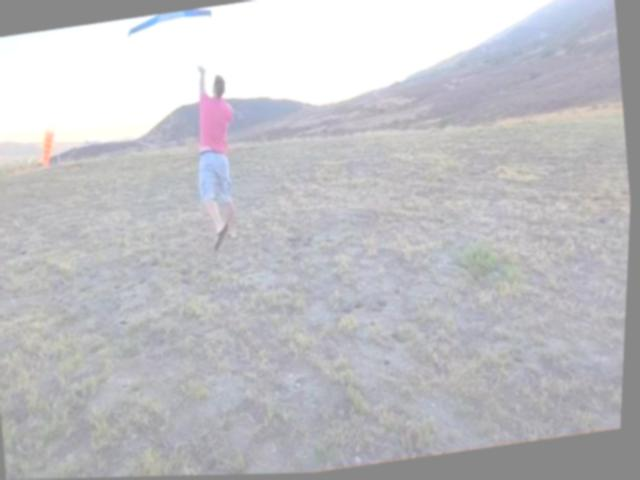iha: (127, 8, 213, 36)
